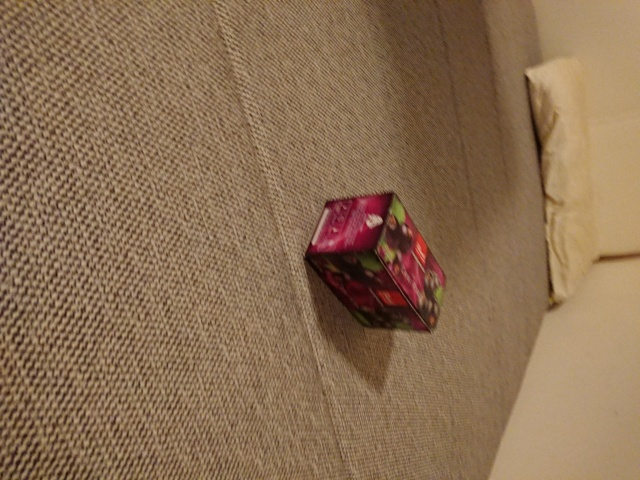Franck Black Currant Tea 60g: (301, 189, 449, 336)
